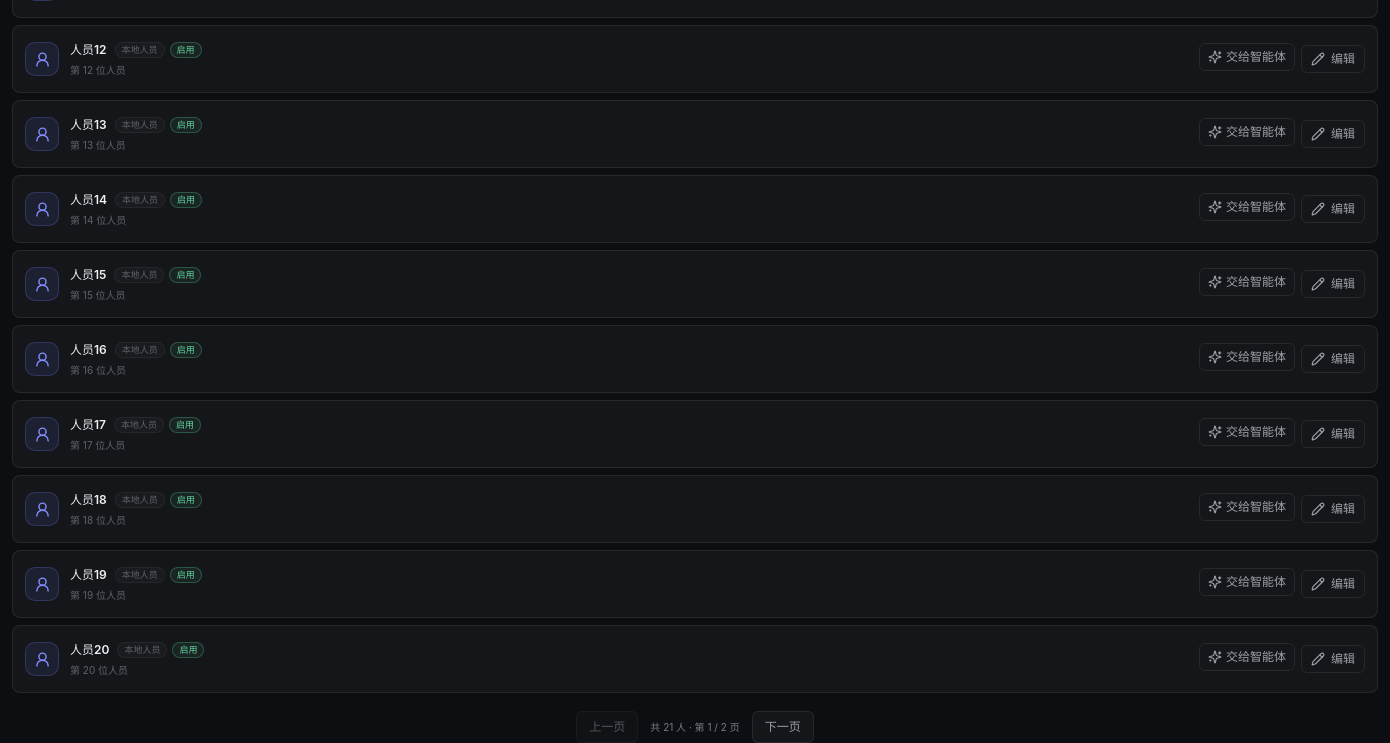
Scenario: ActorSettings › shows a page error without reusing the old page or claiming the list is empty
(page scrolled)
Click the button "下一页" at (783, 727), box [752, 711, 814, 742]
(page scrolled)
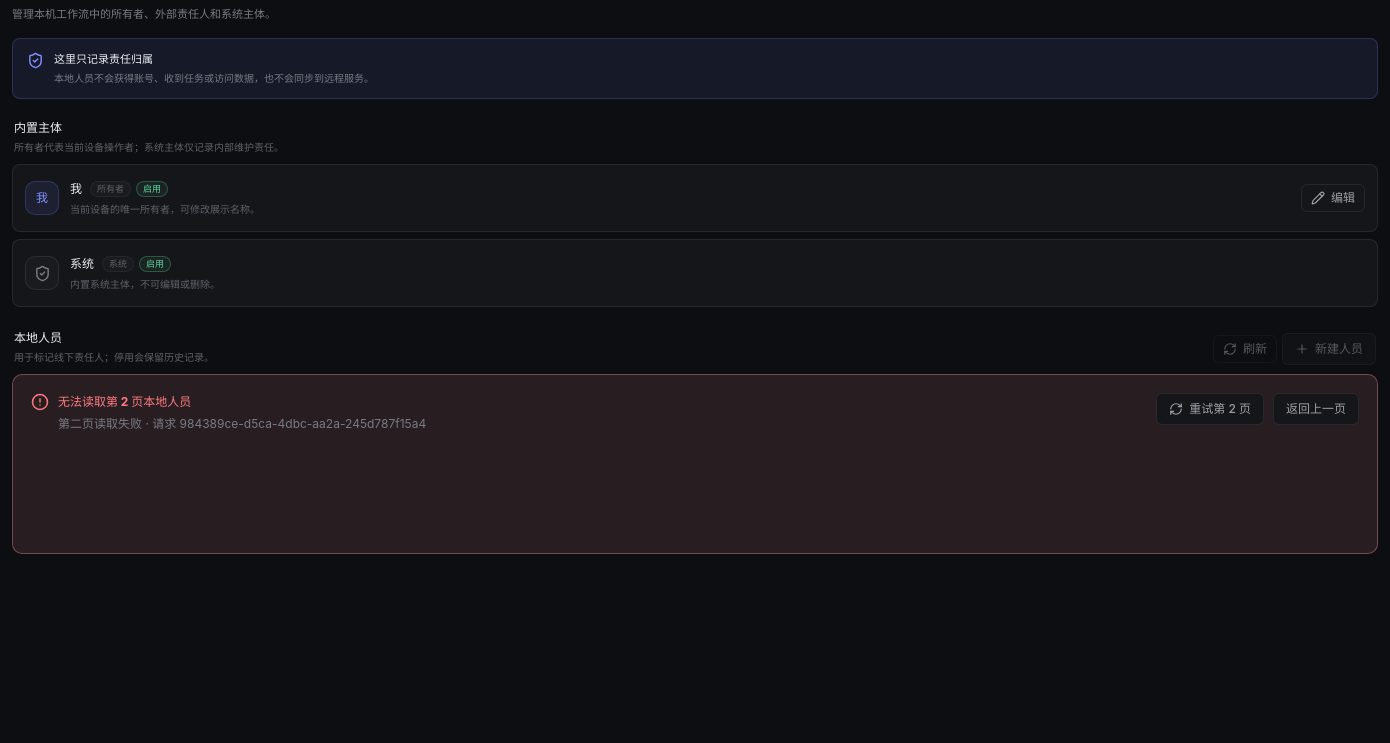
Expected: the text "内置系统主体，不可编辑或删除。" is shown, [70, 278, 220, 290]
Result: the text "无法读取第 2 页本地人员" is shown at [58, 394, 191, 409]
Click the button "返回上一页" at (1316, 409), box [1273, 393, 1359, 425]
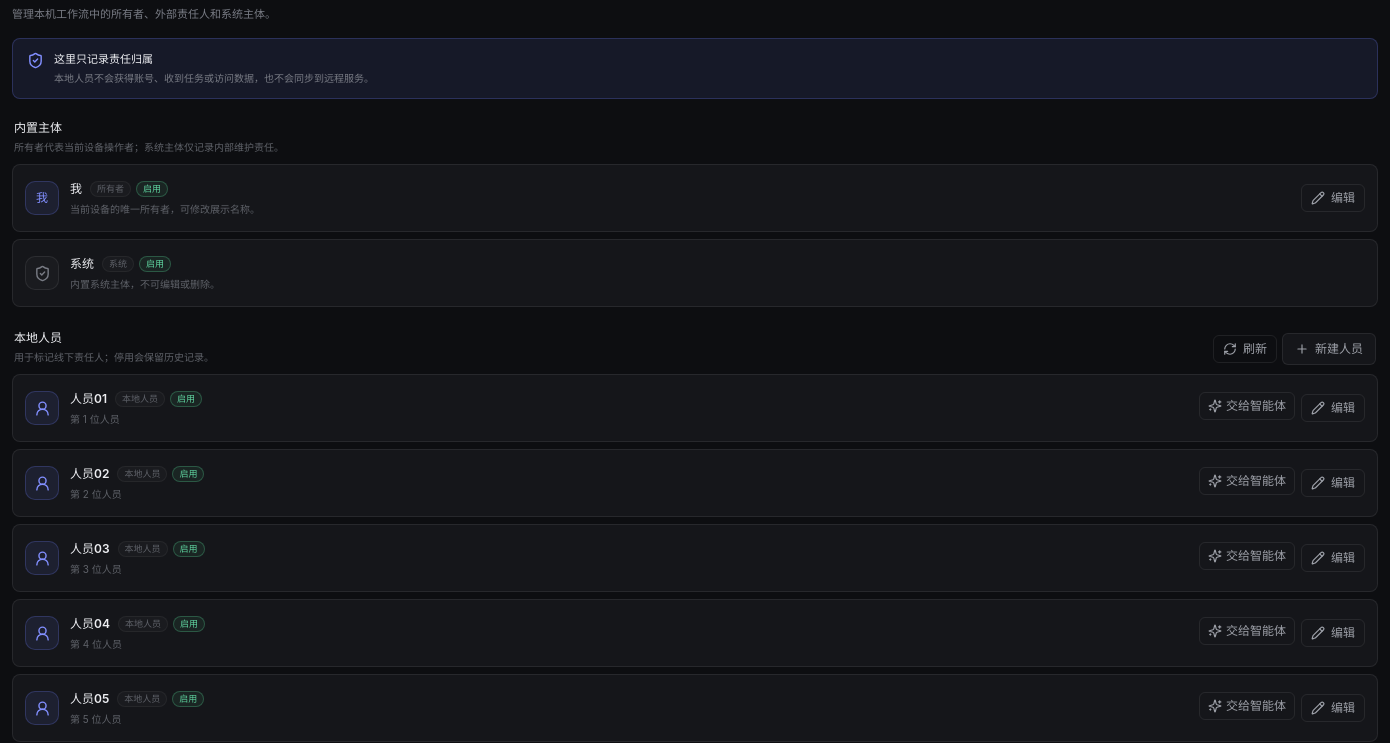
Result: the text "人员01" is shown at [70, 390, 107, 408]
